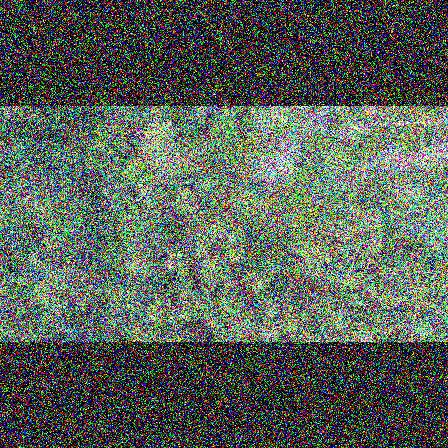Dead: (246, 136, 308, 195), (348, 142, 448, 176), (301, 106, 339, 132)
